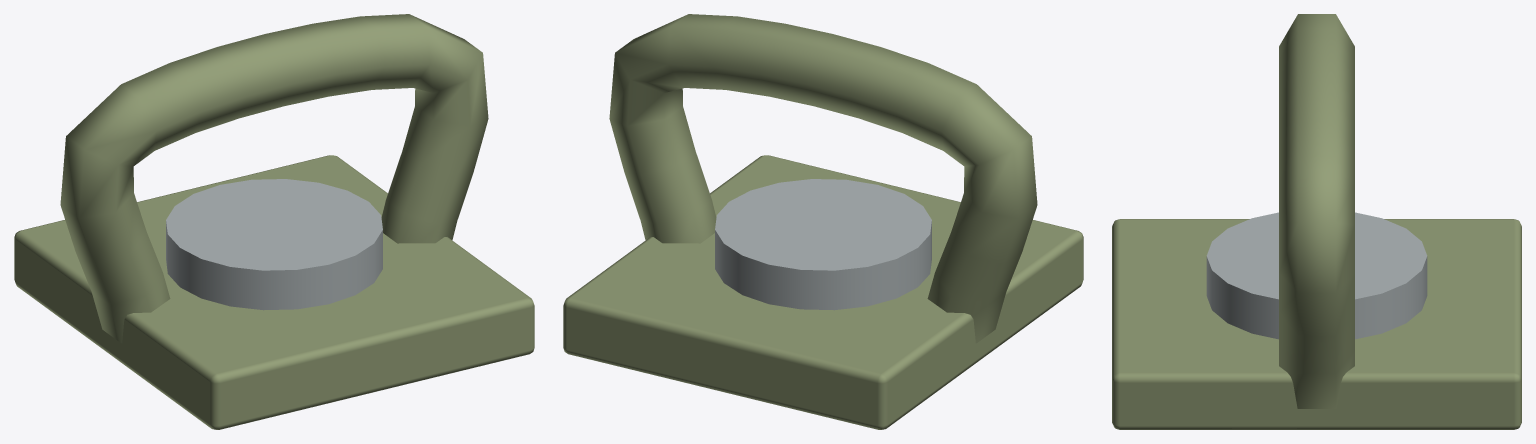
File: primitive-crafting-workshop-sewing-palm-6999bb28__21567.glb
3 renders of one model, left to right at view 1: azimuth 30°, elevation 25°; view 2: azimuth 150°, elevation 25°; view 3: azimuth 270°, elevation 25°, orthographic.
Parts seen in each view (by area): view 1: sewing-palm; view 2: sewing-palm; view 3: sewing-palm.
Boxes of the visible parts, x1,y1,x2,y2 form: sewing-palm: (14, 14, 534, 429); sewing-palm: (563, 14, 1083, 429); sewing-palm: (1112, 14, 1521, 429).
Bounding box in the file's own units: 0.1517 × 0.0991 × 0.13.
